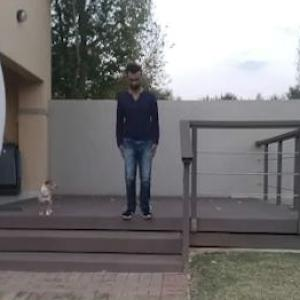follow: (122, 65, 162, 226)
